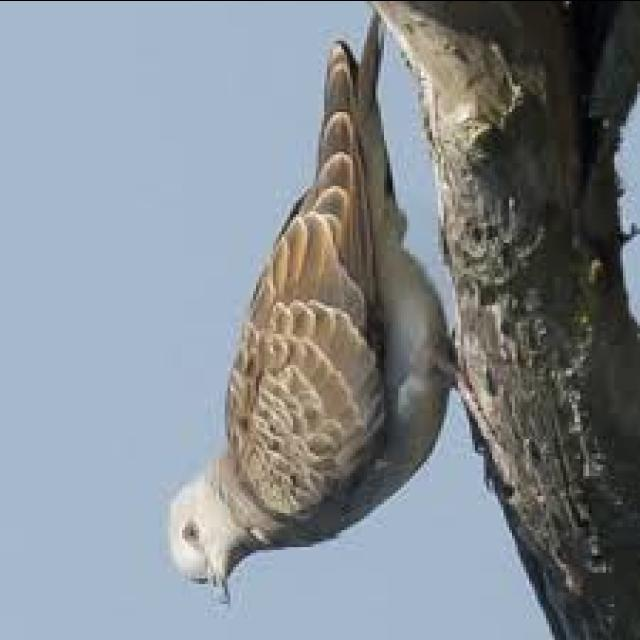pigeon: (136, 3, 460, 610)
